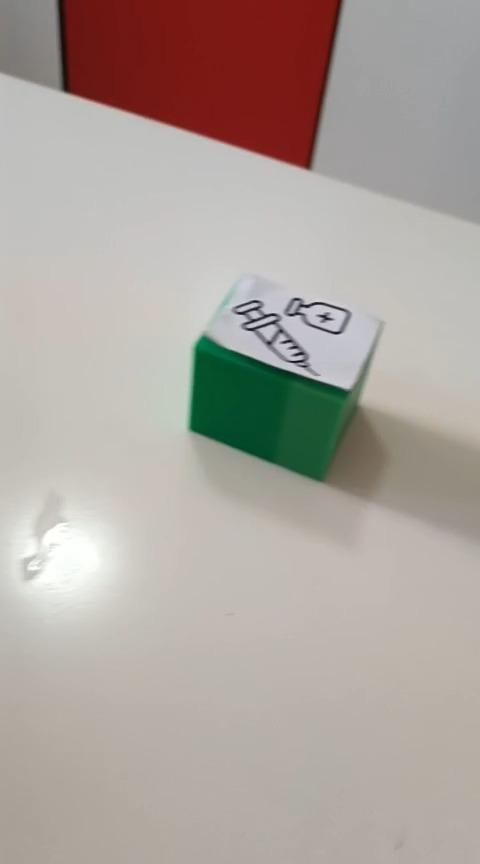antiseptic cream: (186, 270, 385, 482)
